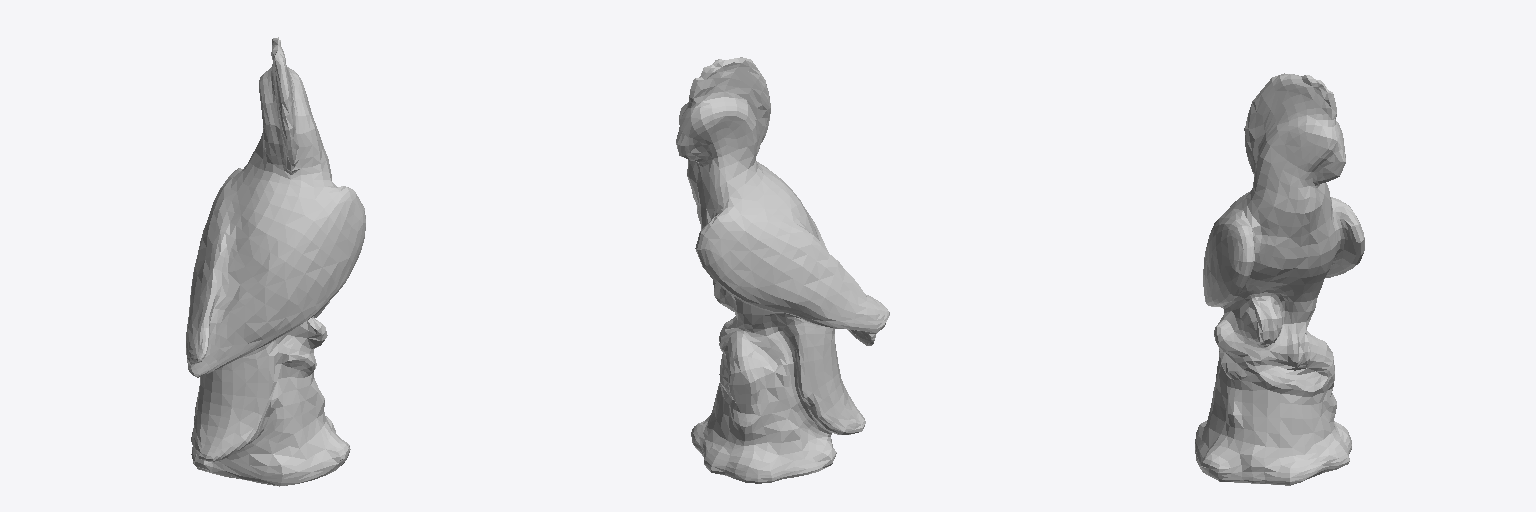
The model's file is parrot_LP_lod2.obj.
The picture shows the model from 3 angles: view 1: azimuth 30°, elevation 25°; view 2: azimuth 150°, elevation 25°; view 3: azimuth 270°, elevation 25°; orthographic projection.
Parts seen in each view (by area): view 1: parrot_LP_lod2_mesh.002; view 2: parrot_LP_lod2_mesh.002; view 3: parrot_LP_lod2_mesh.002.
Part boxes in pixels (x1,y1,x2,y2): parrot_LP_lod2_mesh.002: (186, 37, 365, 486); parrot_LP_lod2_mesh.002: (676, 57, 889, 483); parrot_LP_lod2_mesh.002: (1195, 73, 1364, 485).
Size of the model in its own units: 1.56 by 3.22 by 1.25.